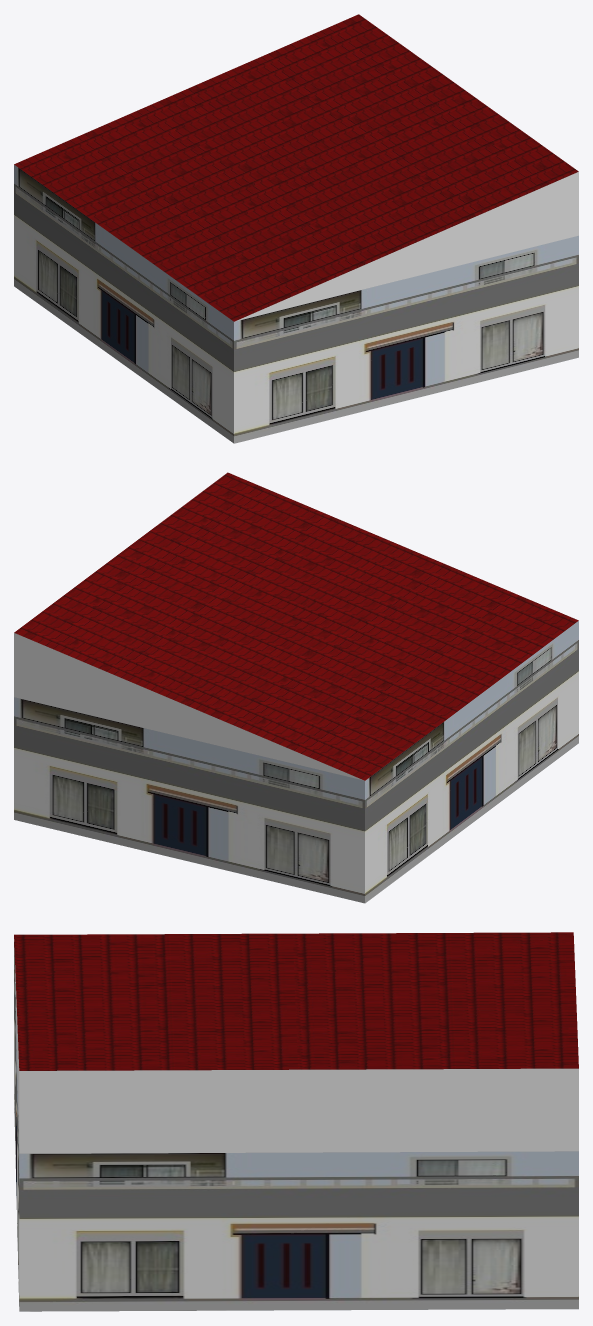
The picture shows the model from 3 angles, top to bottom: view 1: azimuth 30°, elevation 25°; view 2: azimuth 150°, elevation 25°; view 3: azimuth 270°, elevation 25°; orthographic projection. The views are drawn at different scales.
Parts seen in each view (by area): view 1: CityEngineMaterial_17_m, CityEngineMaterial_7_m, CityEngineMaterial_3_m; view 2: CityEngineMaterial_17_m, CityEngineMaterial_7_m, CityEngineMaterial_3_m; view 3: CityEngineMaterial_7_m, CityEngineMaterial_17_m, CityEngineMaterial_3_m.
Boxes of the visible parts, left/top/right/bottom form: CityEngineMaterial_17_m: left=14, top=14, right=578, bottom=321; CityEngineMaterial_7_m: left=14, top=164, right=578, bottom=443; CityEngineMaterial_3_m: left=235, top=172, right=578, bottom=321; CityEngineMaterial_17_m: left=14, top=472, right=578, bottom=780; CityEngineMaterial_7_m: left=14, top=621, right=578, bottom=903; CityEngineMaterial_3_m: left=14, top=633, right=363, bottom=780; CityEngineMaterial_7_m: left=14, top=942, right=578, bottom=1311; CityEngineMaterial_17_m: left=14, top=932, right=578, bottom=1070; CityEngineMaterial_3_m: left=14, top=939, right=578, bottom=1153.
Bounding box in the file's own units: 18.65 × 9.45 × 20.11.
